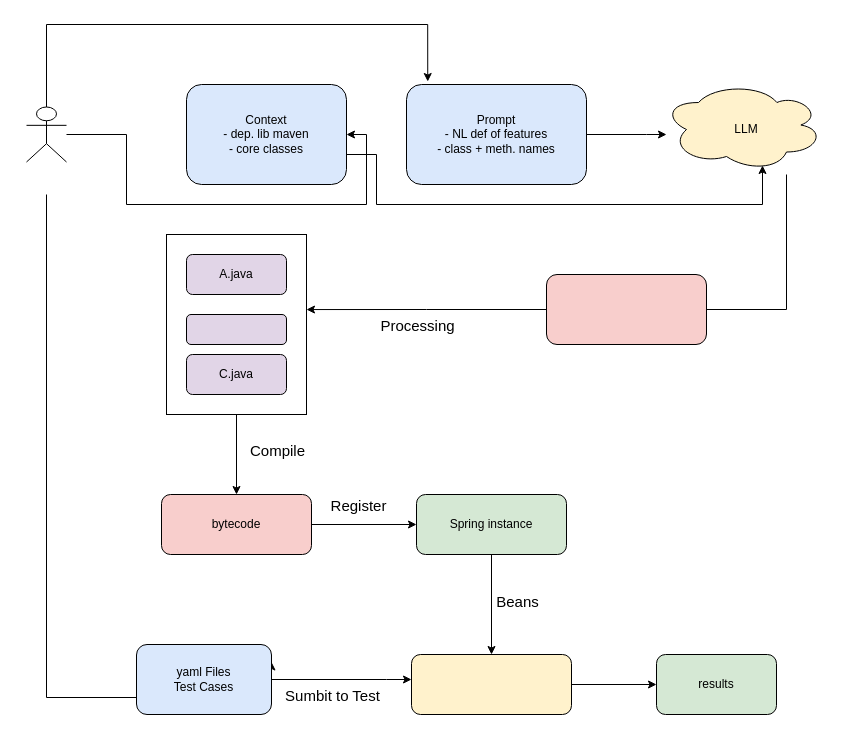
The diagram is 844 pixels wide and 732 high, and some of its shapes have lost their labels. Here are the shapes that lost their labels. From the top down, the centre of each, then its label:
pixel 46 134: Developer
pixel 236 329: B.java
pixel 626 309: New Feature code
pixel 491 684: Test Framework
